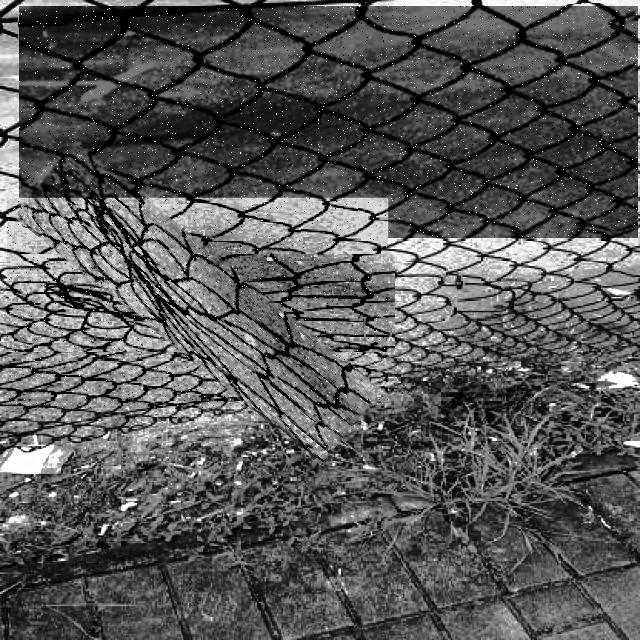anomaly-fence: (7, 198, 388, 408)
fences: (19, 6, 638, 238)
